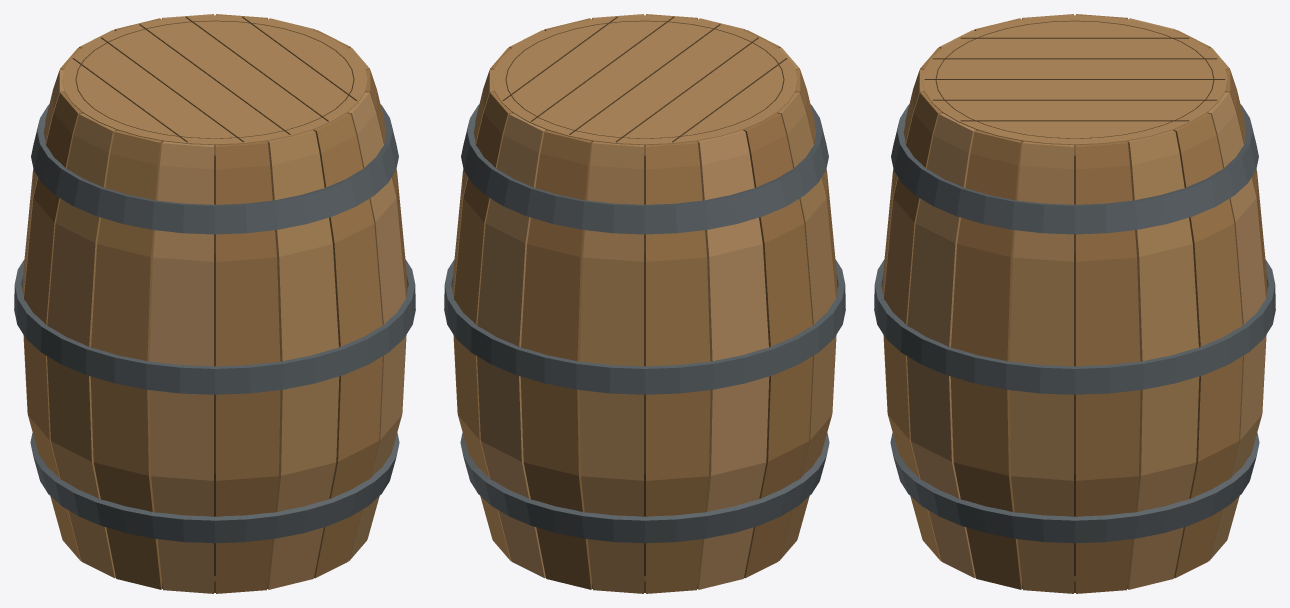
The model's file is barrel.glb.
3 views of the same model, side by side, from view 1: azimuth 30°, elevation 25°; view 2: azimuth 150°, elevation 25°; view 3: azimuth 270°, elevation 25° (orthographic).
Parts seen in each view (by area): view 1: Closed wooden barrel lid, Individual curved wooden stave 12, Individual curved wooden stave 13, Individual curved wooden stave 11, Individual curved wooden stave 14, Individual curved wooden stave 10, Individual curved wooden stave 15, Flat iron barrel hoop.001, Flat iron barrel hoop.002, Flat iron barrel hoop, Individual curved wooden stave 09, Individual curved wooden stave 16 (+3 smaller); view 2: Closed wooden barrel lid, Individual curved wooden stave 06, Individual curved wooden stave 07, Individual curved wooden stave 05, Individual curved wooden stave 08, Individual curved wooden stave 04, Individual curved wooden stave 09, Flat iron barrel hoop.001, Flat iron barrel hoop.002, Flat iron barrel hoop, Individual curved wooden stave 03, Individual curved wooden stave 10 (+3 smaller); view 3: Closed wooden barrel lid, Individual curved wooden stave 01, Individual curved wooden stave 18, Individual curved wooden stave 02, Individual curved wooden stave 17, Individual curved wooden stave 16, Individual curved wooden stave 03, Flat iron barrel hoop.001, Flat iron barrel hoop.002, Flat iron barrel hoop, Individual curved wooden stave 04, Individual curved wooden stave 15 (+5 smaller).
Part boxes in pixels (<box>): Closed wooden barrel lid: <box>62,15,367,155</box>; Individual curved wooden stave 12: <box>149,141,213,593</box>; Individual curved wooden stave 13: <box>216,141,280,593</box>; Individual curved wooden stave 11: <box>90,130,161,589</box>; Individual curved wooden stave 14: <box>268,130,339,589</box>; Individual curved wooden stave 10: <box>47,113,116,578</box>; Individual curved wooden stave 15: <box>313,113,382,578</box>; Flat iron barrel hoop.001: <box>14,259,415,394</box>; Flat iron barrel hoop.002: <box>31,104,398,234</box>; Flat iron barrel hoop: <box>30,433,399,543</box>; Individual curved wooden stave 09: <box>24,92,82,560</box>; Individual curved wooden stave 16: <box>347,92,405,560</box>; Closed wooden barrel lid: <box>492,15,797,155</box>; Individual curved wooden stave 06: <box>579,141,643,593</box>; Individual curved wooden stave 07: <box>646,141,710,593</box>; Individual curved wooden stave 05: <box>520,130,591,589</box>; Individual curved wooden stave 08: <box>698,130,769,589</box>; Individual curved wooden stave 04: <box>477,113,546,578</box>; Individual curved wooden stave 09: <box>743,113,812,578</box>; Flat iron barrel hoop.001: <box>444,259,845,394</box>; Flat iron barrel hoop.002: <box>461,104,828,234</box>; Flat iron barrel hoop: <box>460,433,829,543</box>; Individual curved wooden stave 03: <box>454,92,512,560</box>; Individual curved wooden stave 10: <box>777,92,835,560</box>; Closed wooden barrel lid: <box>922,15,1227,155</box>; Individual curved wooden stave 01: <box>1076,141,1140,593</box>; Individual curved wooden stave 18: <box>1009,141,1073,593</box>; Individual curved wooden stave 02: <box>1128,130,1199,589</box>; Individual curved wooden stave 17: <box>950,130,1021,589</box>; Individual curved wooden stave 16: <box>907,113,976,578</box>; Individual curved wooden stave 03: <box>1173,113,1242,578</box>; Flat iron barrel hoop.001: <box>874,259,1275,394</box>; Flat iron barrel hoop.002: <box>891,104,1258,234</box>; Flat iron barrel hoop: <box>890,433,1259,543</box>; Individual curved wooden stave 04: <box>1207,92,1265,560</box>; Individual curved wooden stave 15: <box>884,92,942,560</box>.
Size of the model in its own units: 0.7395 by 0.9144 by 0.7395.
